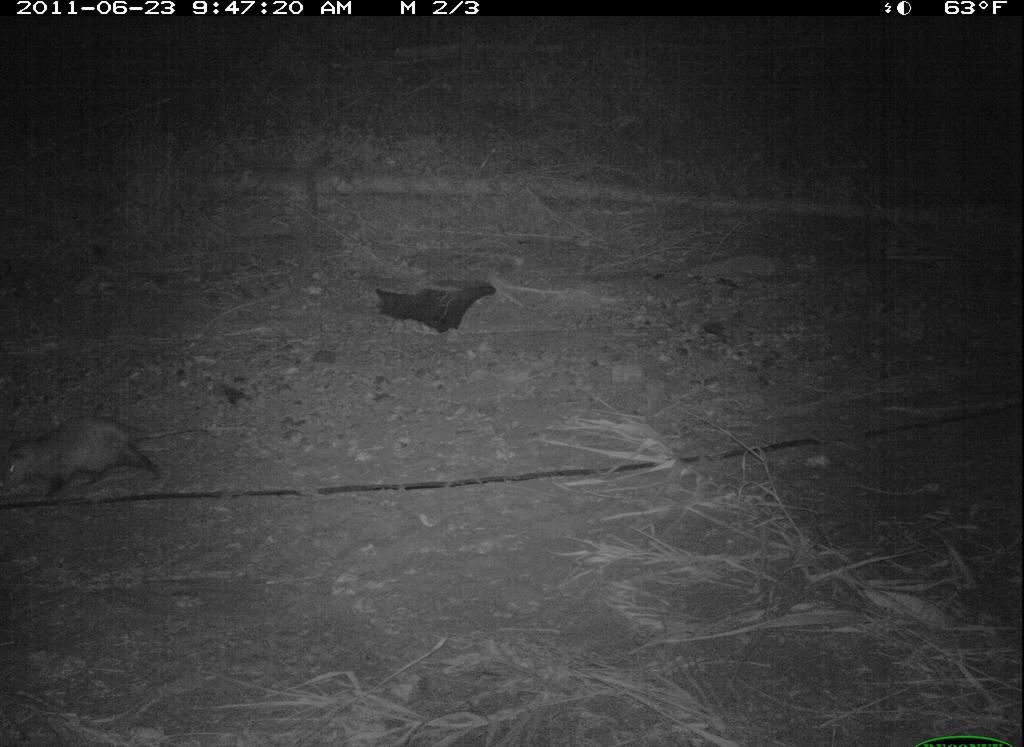opossum: (3, 409, 226, 506)
